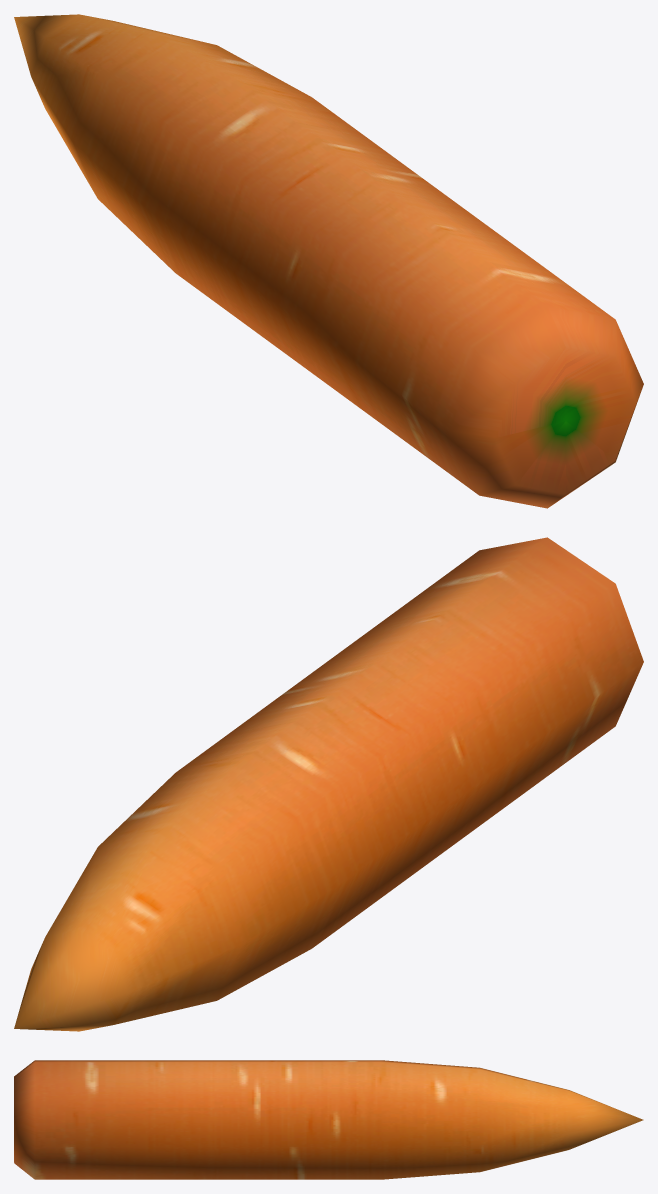
File: wand_s_carrot_carrot.glb
3 views of the same model, one above another, from view 1: azimuth 30°, elevation 25°; view 2: azimuth 150°, elevation 25°; view 3: azimuth 270°, elevation 25° (orthographic). The views are drawn at different scales.
Size of the model in its own units: 0.0434 by 0.0434 by 0.215.
1 material, 1 textured.
